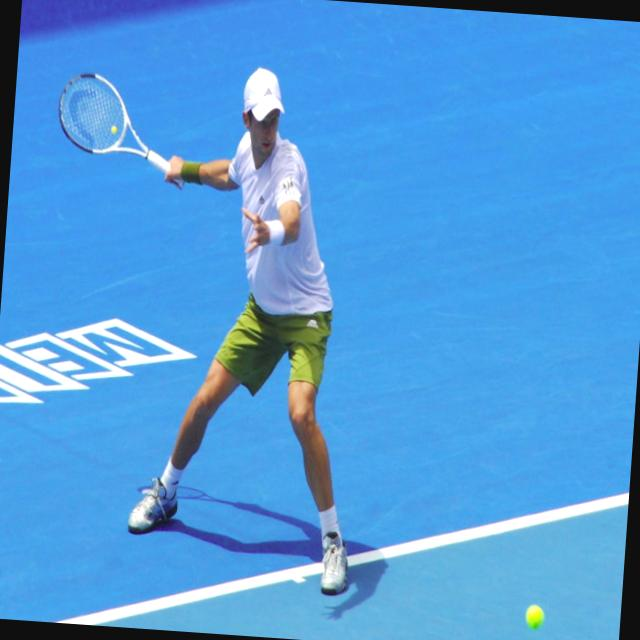Tennis Ball: (526, 602, 545, 629)
